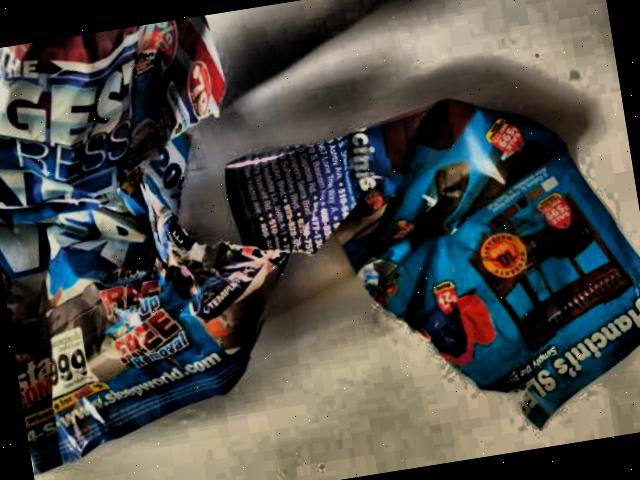Paper: (0, 9, 309, 475), (234, 84, 640, 427)
